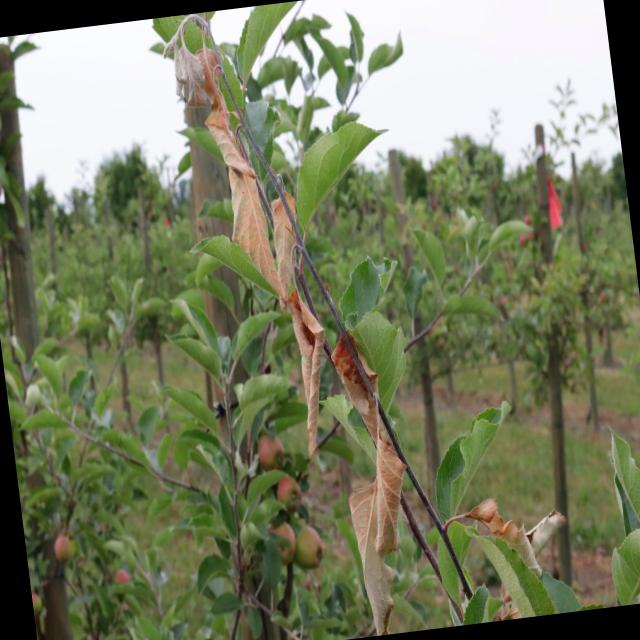-FireBlight-: (333, 325, 421, 630), (200, 107, 292, 305), (466, 484, 565, 576), (282, 293, 338, 455), (160, 12, 234, 129)
